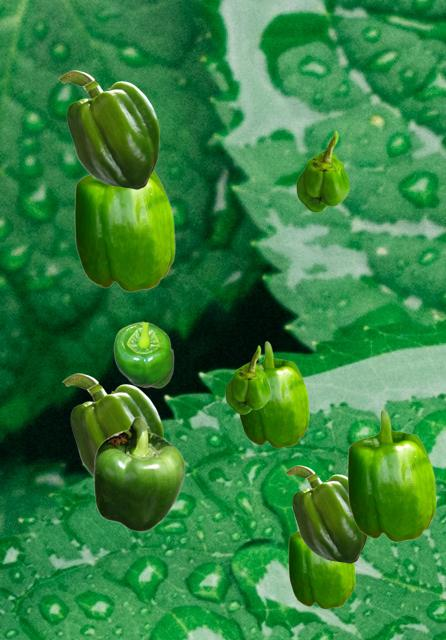bell_pepper: (74, 170, 174, 291), (58, 70, 158, 188), (347, 409, 435, 541), (93, 416, 184, 531), (62, 373, 162, 476), (285, 465, 367, 562), (238, 341, 308, 447), (288, 530, 354, 608), (296, 130, 348, 211), (113, 321, 173, 387), (225, 345, 269, 413)
